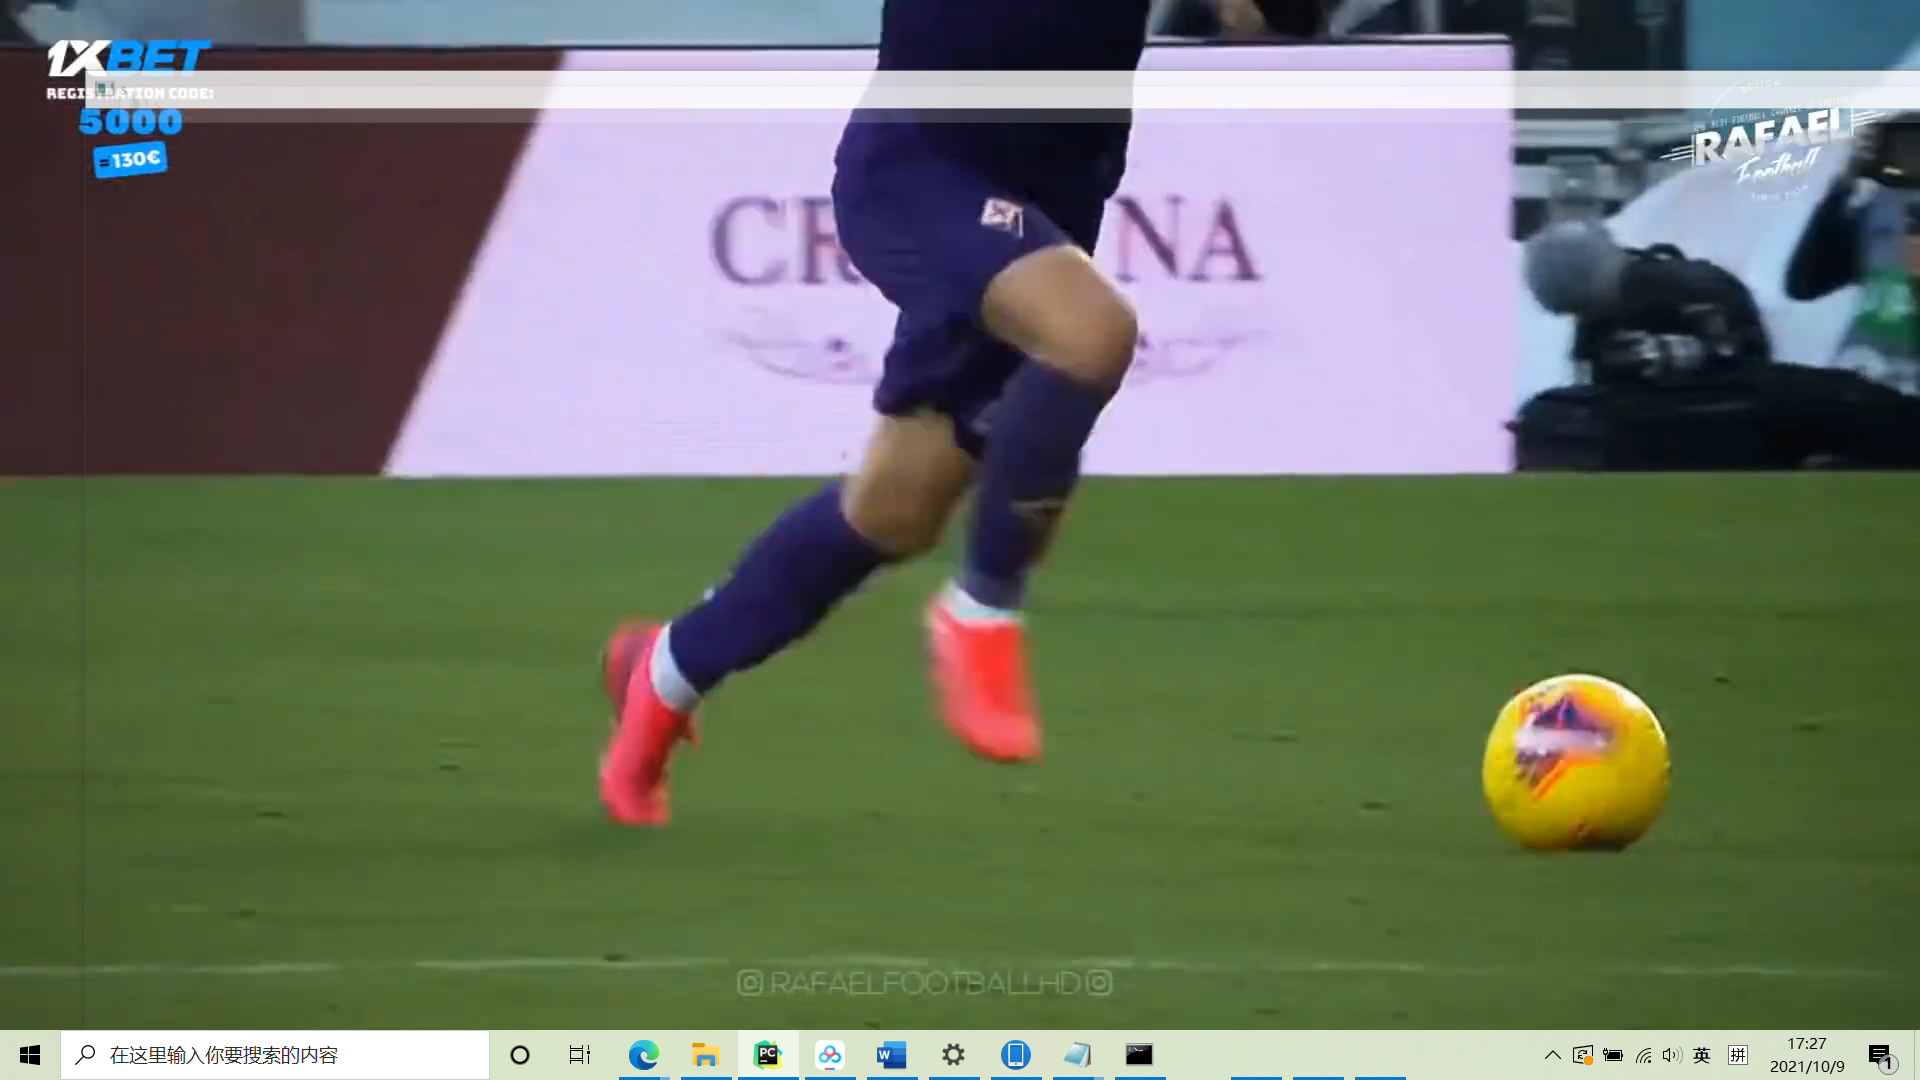ft: (1464, 655, 1681, 874)
